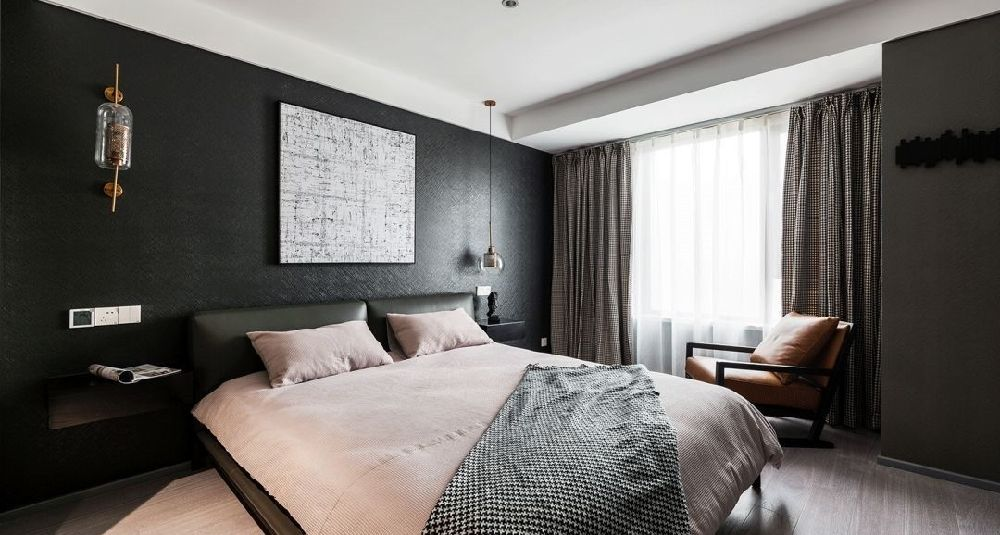床: (181, 340, 788, 527)
枕头: (243, 302, 499, 381)
灯: (90, 73, 134, 220), (478, 99, 505, 281)
